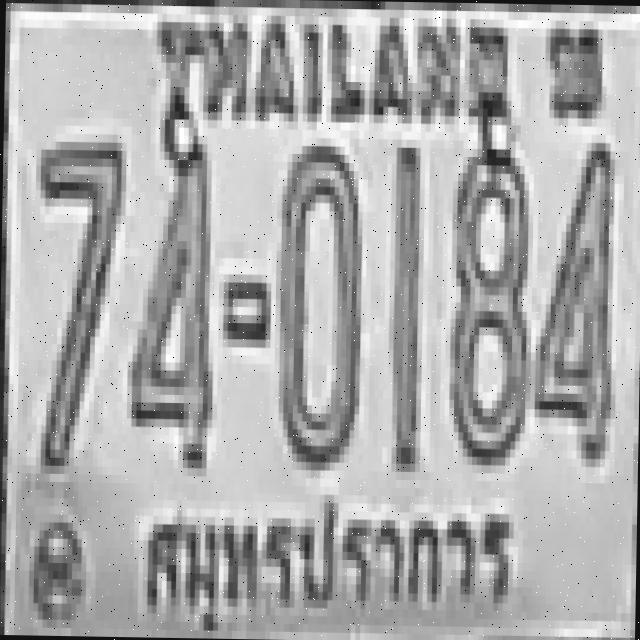0: (275, 137, 361, 462)
1: (384, 143, 423, 468)
4: (123, 146, 214, 460), (531, 134, 617, 458)
7: (31, 128, 122, 462)
8: (444, 140, 530, 457)
SamutPrakan: (138, 478, 523, 634)
